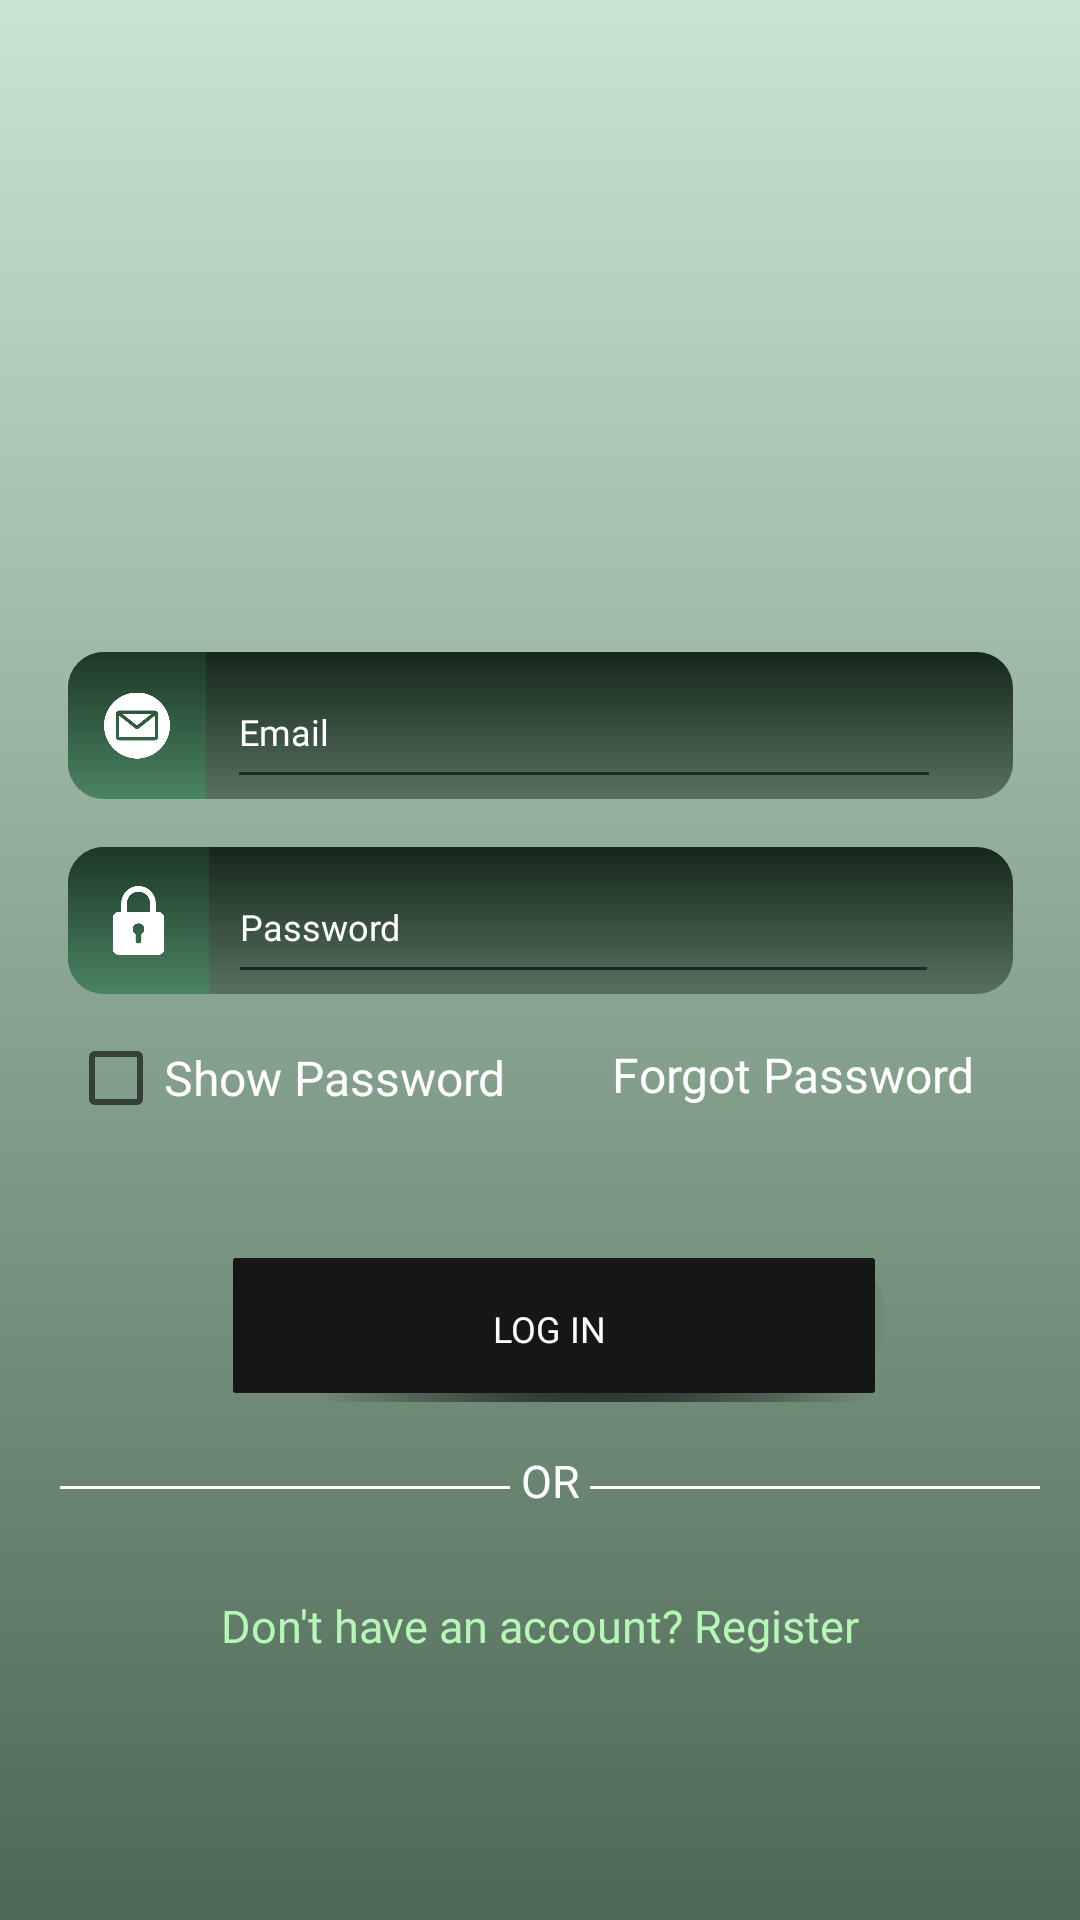

Icon bounding boxes for this 1080x1920 phone screenshot, format (x1, y1, x2, y2):
lock: (68, 847, 209, 994)
